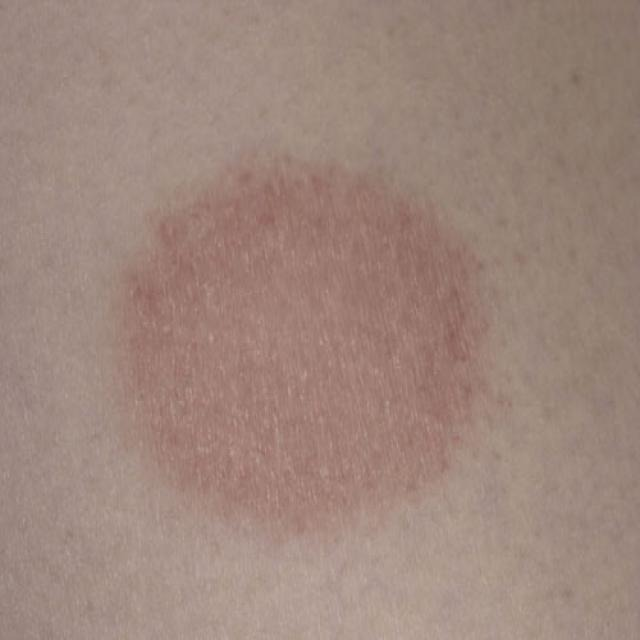Ringworm: (82, 105, 527, 553)
